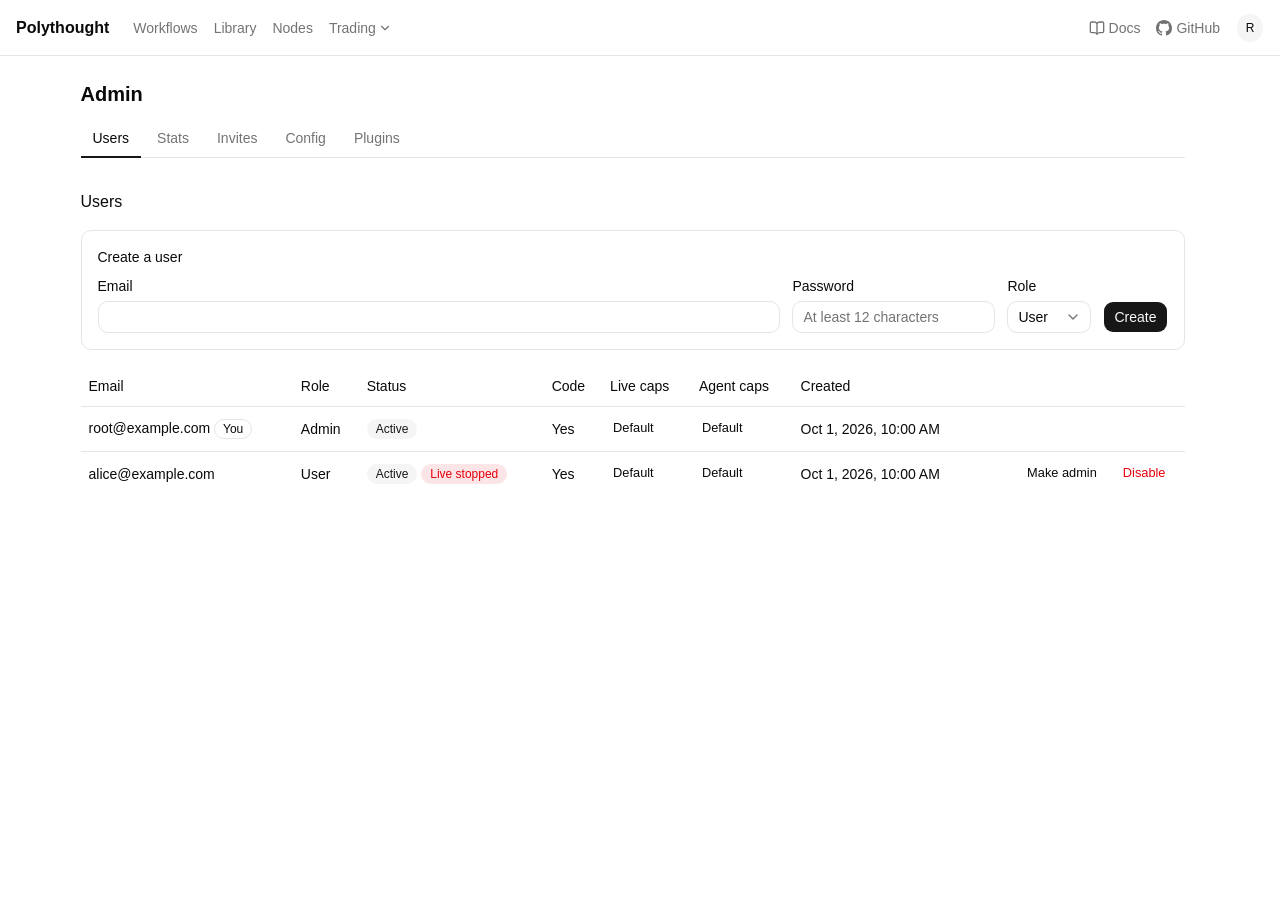
it: admin page › caps a user's live buys over the instance's, and shows whose live trading stopped (D222)
The image size is (1280, 900).
Check: the text "alice@example.com" is shown, box [80,451,293,496]
Check: the text "Live stopped" is shown, box [421,464,507,484]
Click the button with aria-label "Live caps of alice@example.com".
click(633, 474)  # box [602,460,665,488]
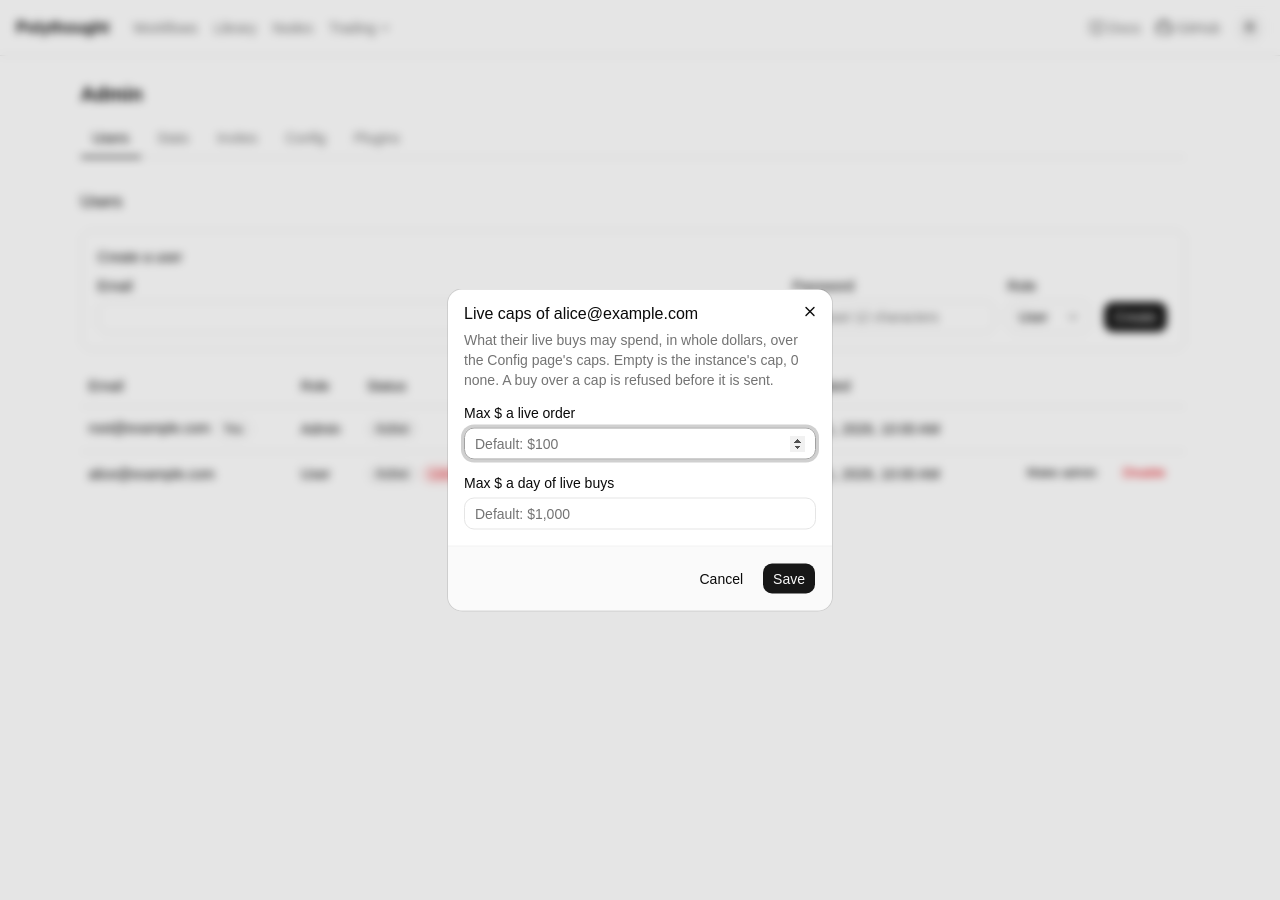
Type "250" into the number field labelled "Max $ a live order".
click(640, 444); type("250")  # box [464,428,816,460]
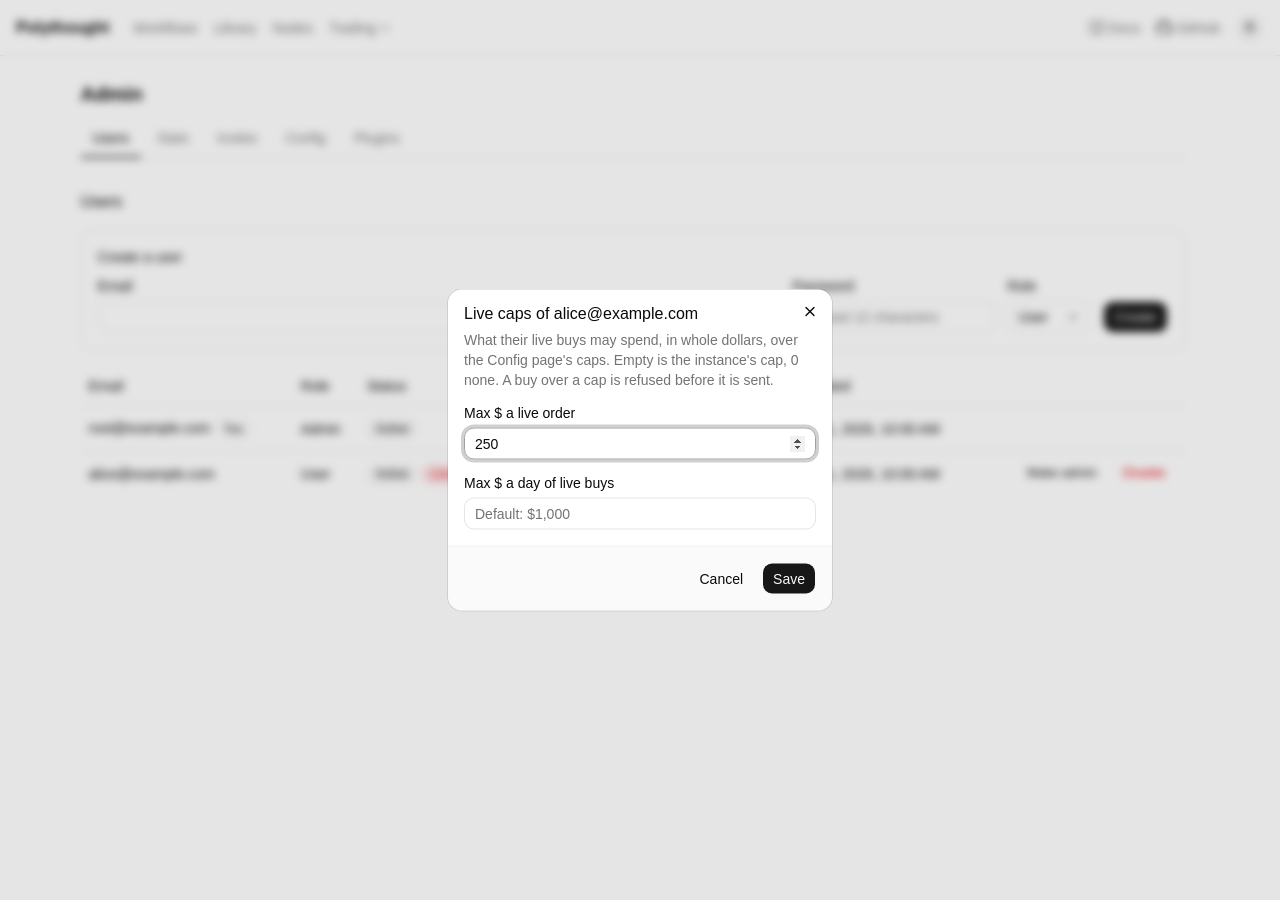
Click the button "Save".
click(789, 578)  # box [762,562,816,594]
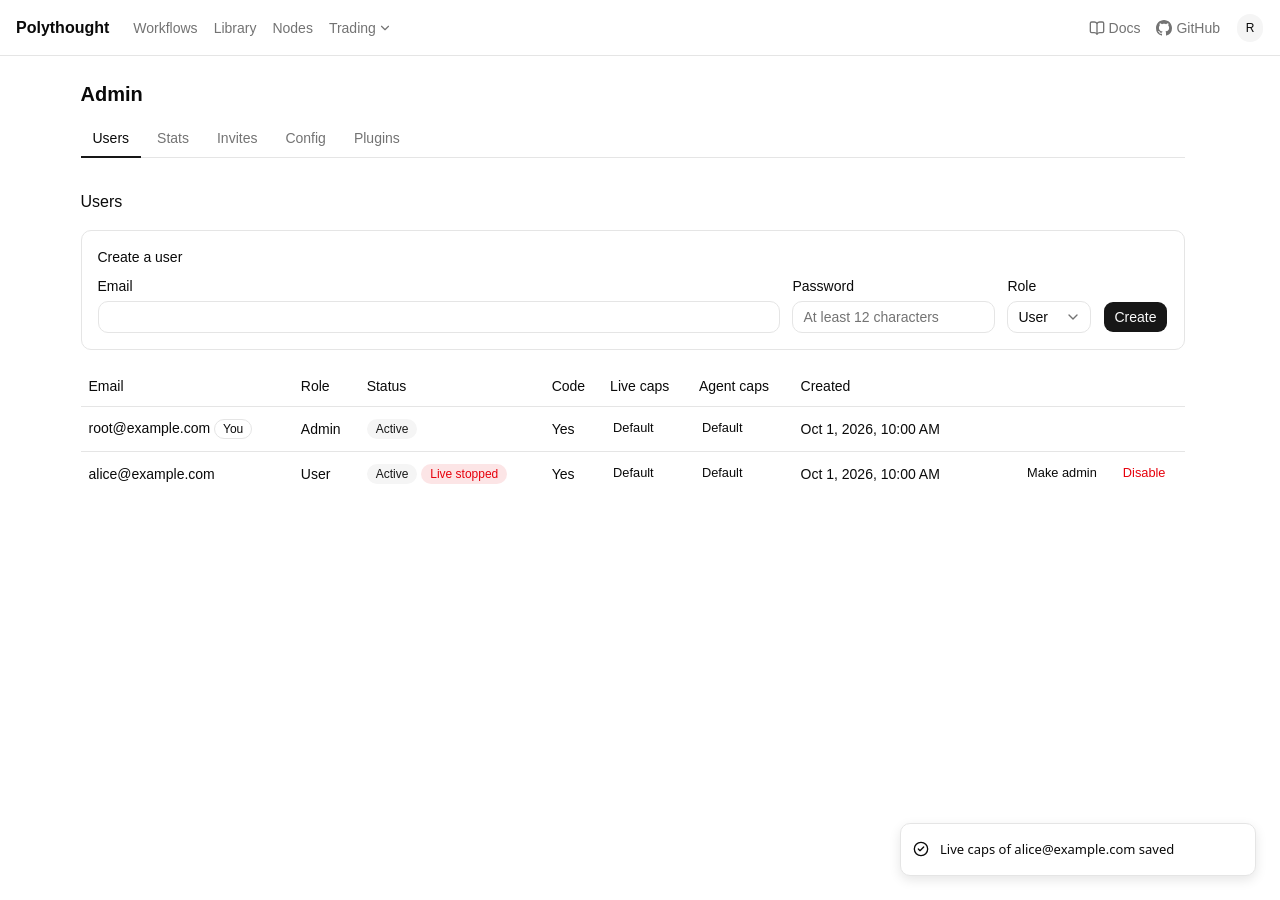
Check: the text "Live caps of alice@example.com saved" is shown, box [940,840,1174,859]
